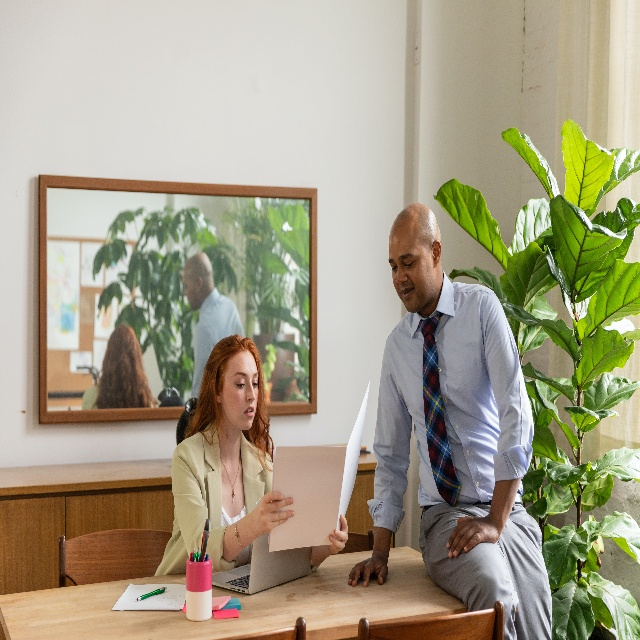Sin_guantes: (446, 511, 500, 561), (254, 490, 294, 536), (348, 552, 389, 588), (328, 514, 349, 555)
